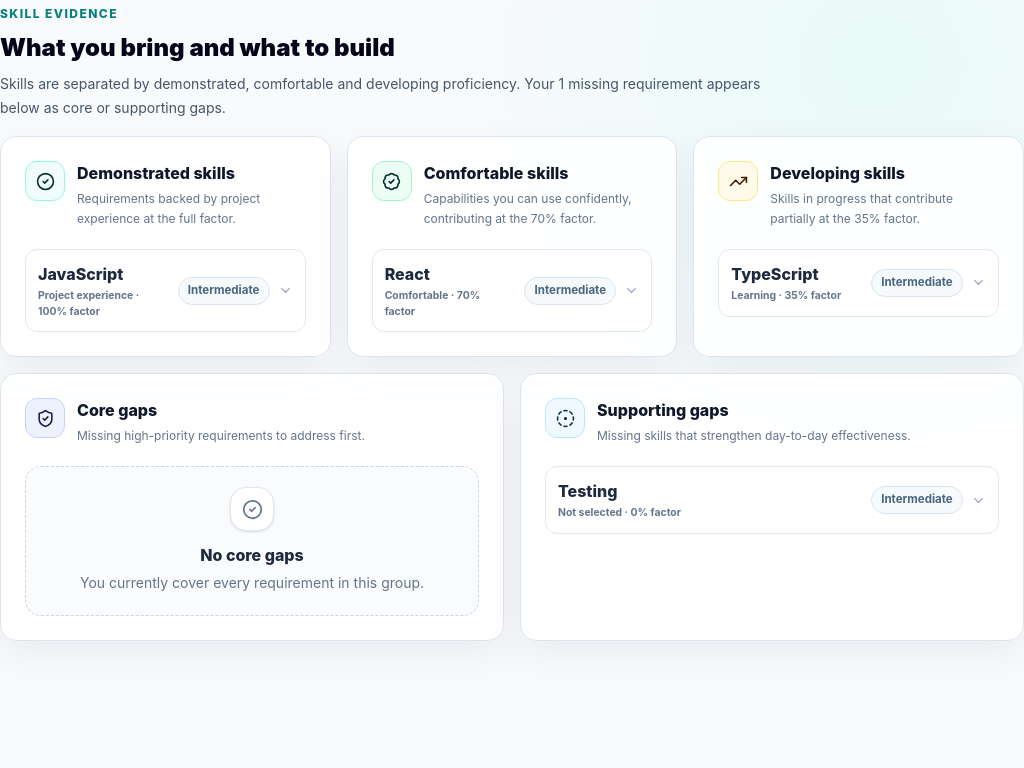
Test: SkillGapSections › shows proficiency factor and contribution in expandable skill evidence
Expected: the text "Developing skills" is shown, [770, 163, 905, 183]
Step 1. Click the button "TypeScript Learning · 35% factor intermediate" → (775, 274), box [719, 250, 998, 316]
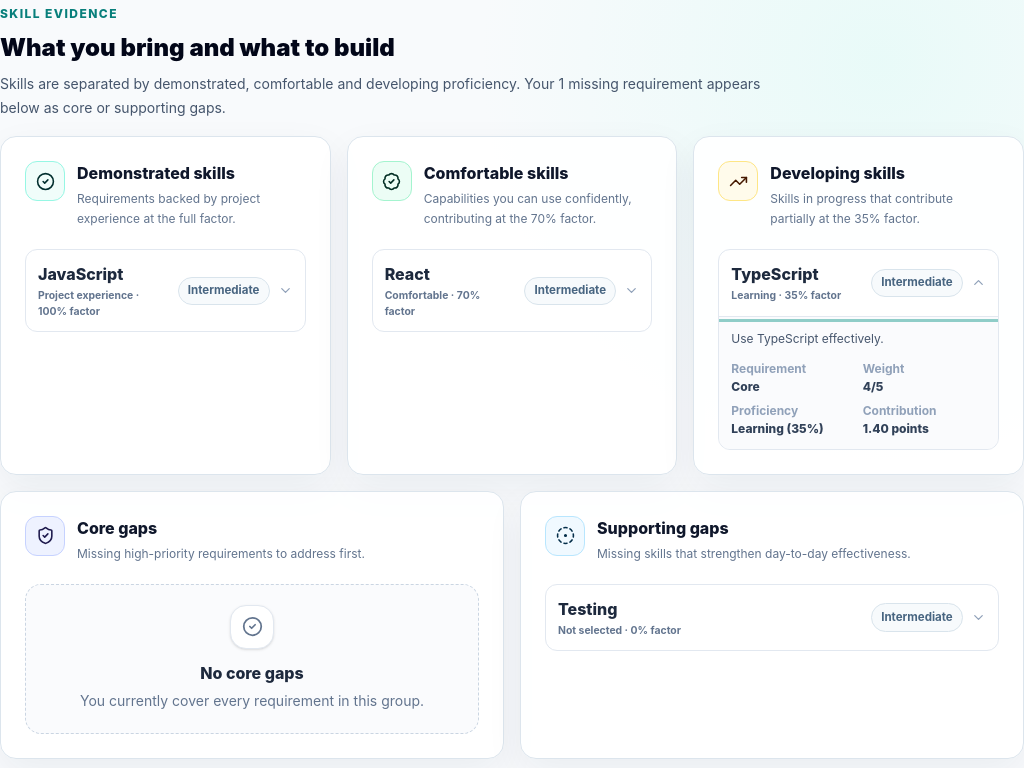
Result: the text "Learning (35%)" is shown at [731, 421, 824, 436]
Result: the text "1.40 points" is shown at [863, 421, 929, 436]
